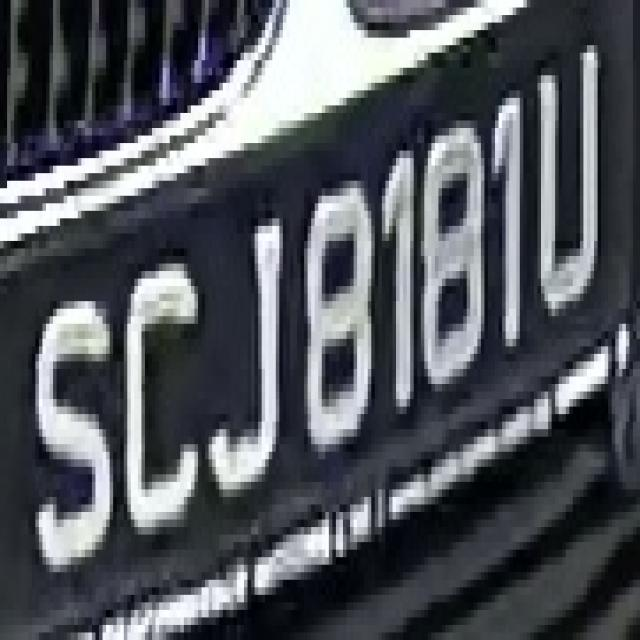1: (477, 75, 534, 384), (386, 128, 424, 429)
8: (301, 173, 378, 490), (421, 90, 484, 399)
C: (110, 241, 205, 572)
J: (202, 181, 294, 527)
S: (28, 279, 117, 572)
U: (527, 45, 612, 331)
